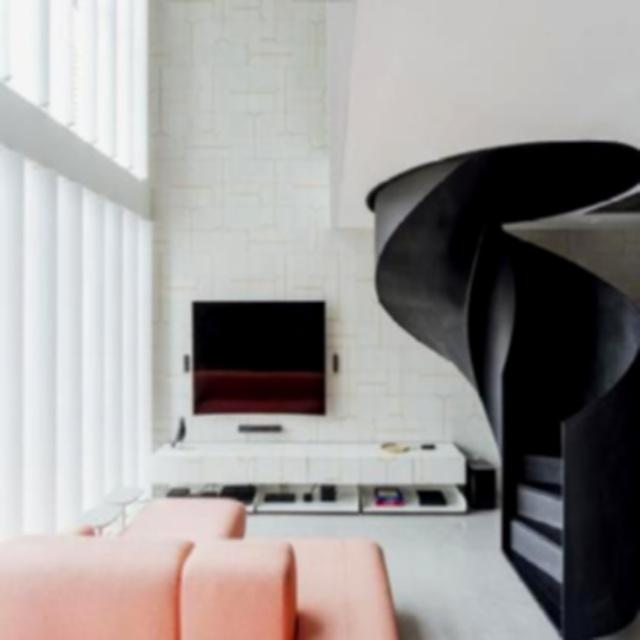stair: (494, 212, 640, 640)
